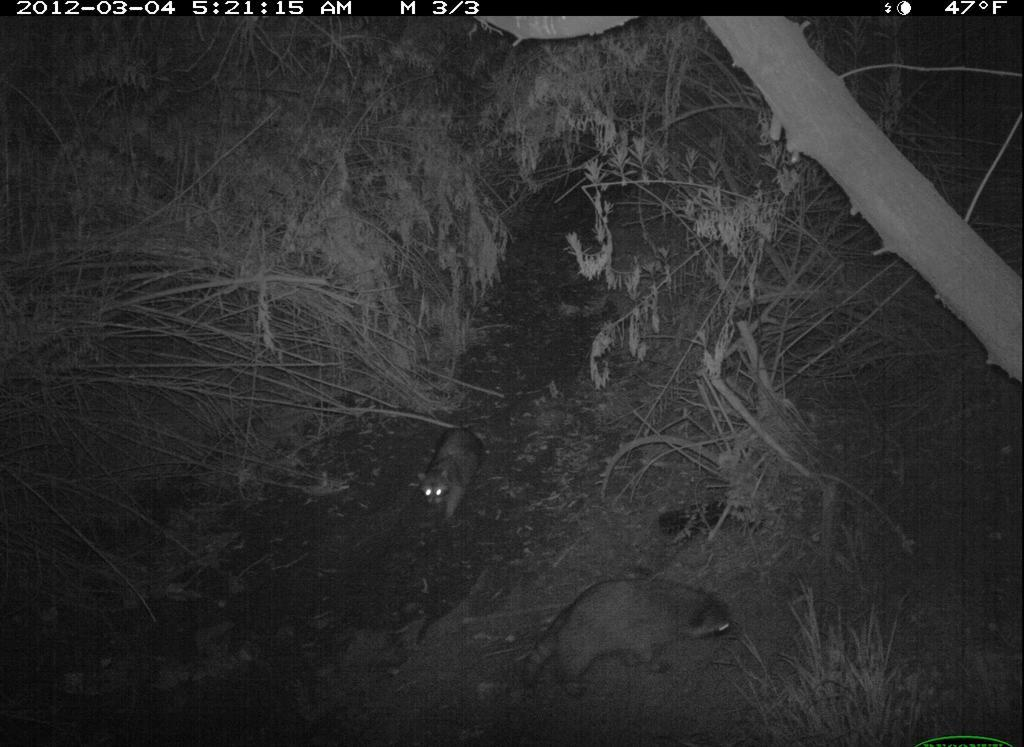raccoon: (516, 568, 742, 708), (413, 423, 495, 532)
